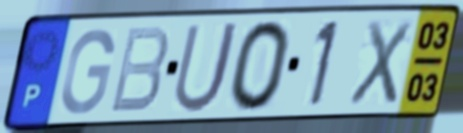1: (306, 17, 344, 112)
B: (106, 24, 172, 116)
G: (58, 25, 117, 117)
O: (227, 17, 294, 115)
U: (169, 18, 243, 117)
X: (345, 17, 416, 109)
